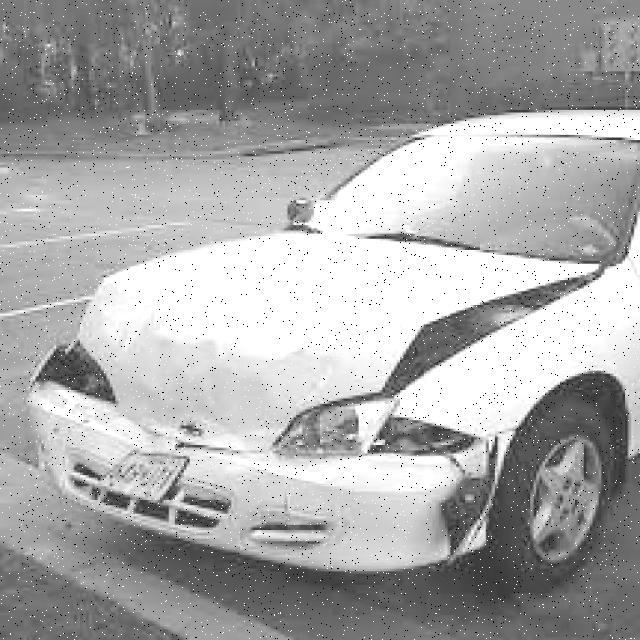car damage: (29, 278, 600, 554)
